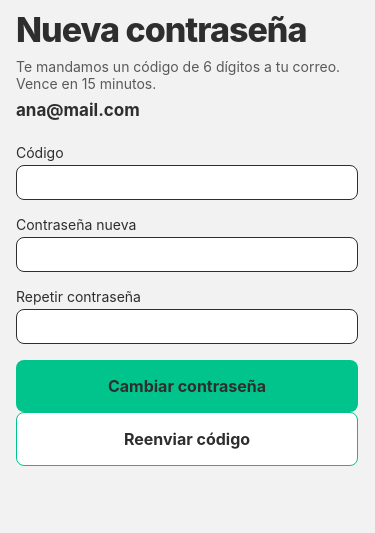
RestablecerScreen › un error de red muestra el mensaje genérico
Type "123456" into the field named "Código" at (187, 182), box top-left (33, 166), bottom-right (341, 199)
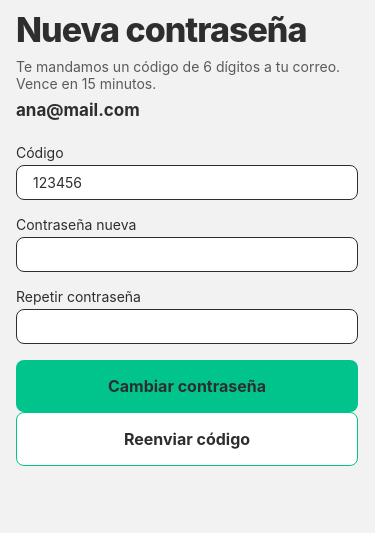
Type "Clave123" into the password field named "Contraseña nueva" at (187, 254), box top-left (33, 238), bottom-right (341, 271)
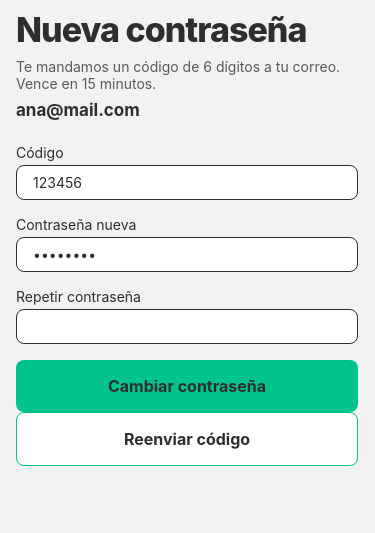
Type "Clave123" into the password field named "Repetir contraseña" at (187, 326), box top-left (33, 310), bottom-right (341, 343)
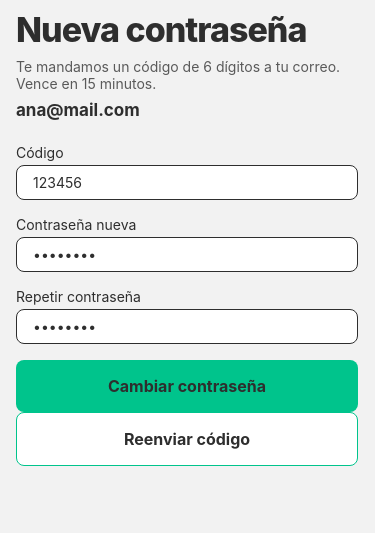
Click the button "Cambiar contraseña" at (187, 386), box top-left (16, 360), bottom-right (358, 412)
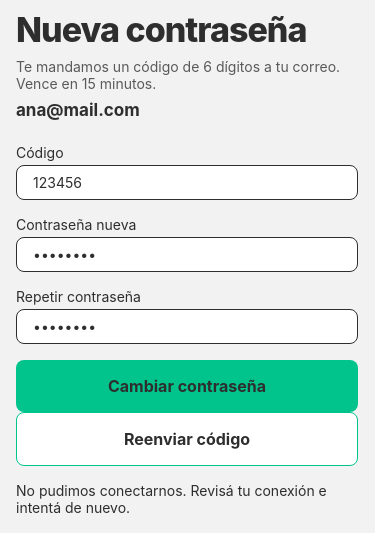
Check: the text "No pudimos conectarnos. Revisá tu conexión e intentá de nuevo." is shown, box top-left (16, 482), bottom-right (358, 516)
